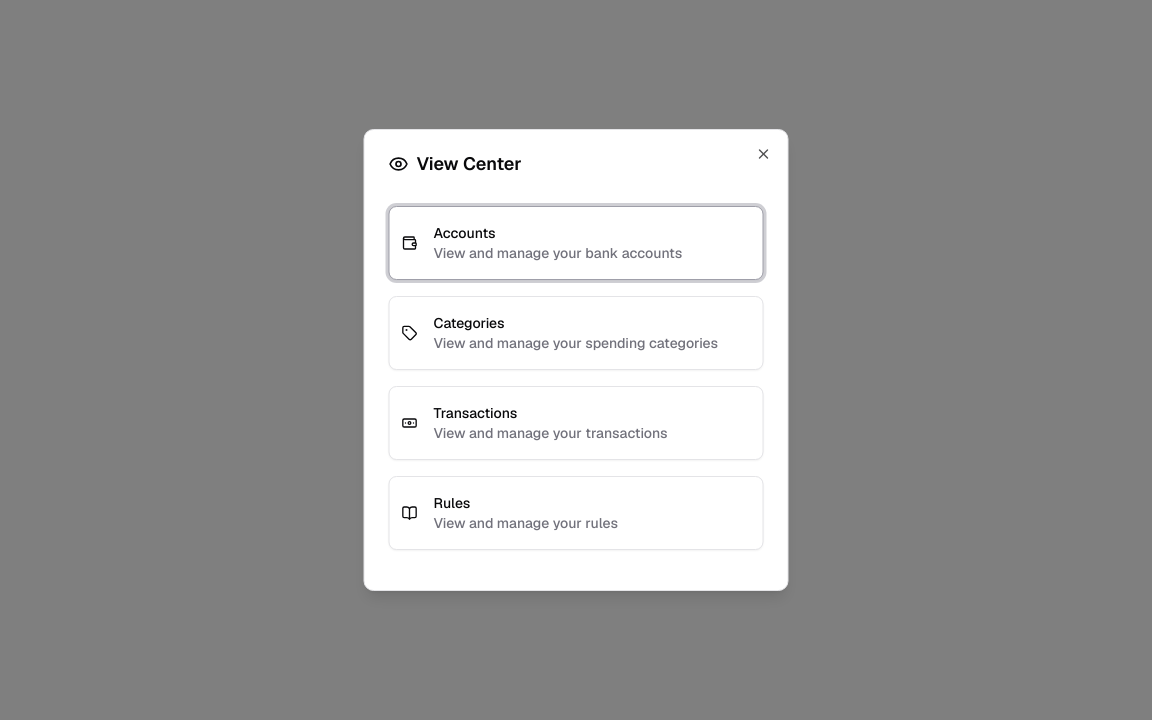
Test case: InfoCenterModal › opens the categories list
The width and height of the screenshot is (1152, 720).
Click the button "Categories View and manage your spending categories" at (576, 333), box [388,296,764,370]
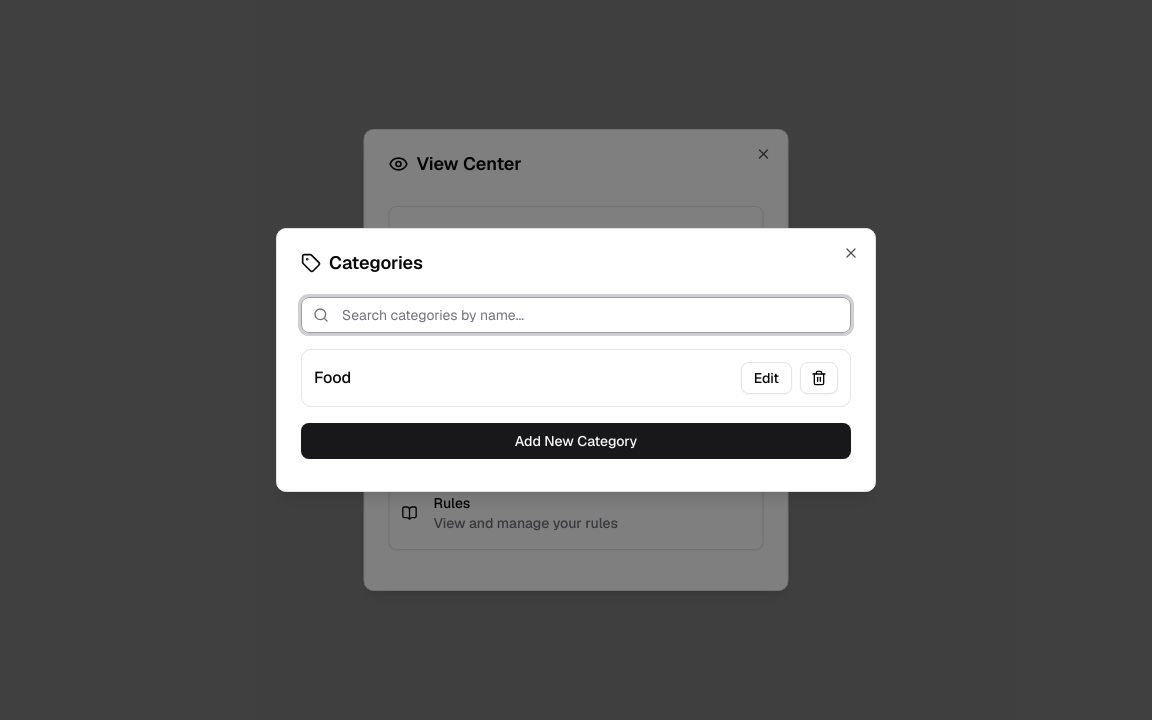
Now the dialog "Categories" is shown, box [276,228,876,492]
